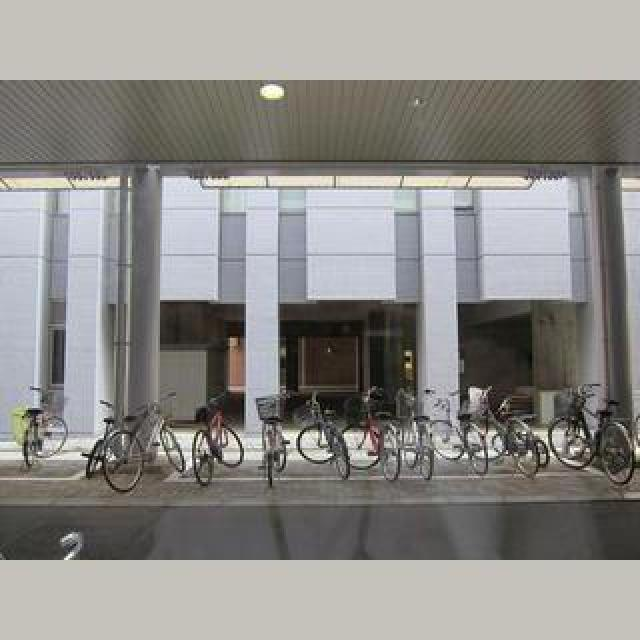Person: (548, 384, 638, 486), (104, 392, 188, 492), (460, 388, 546, 478), (426, 390, 500, 476), (344, 388, 400, 482), (294, 392, 352, 480), (192, 392, 244, 486), (12, 392, 68, 472), (404, 388, 442, 482), (256, 396, 290, 486)
